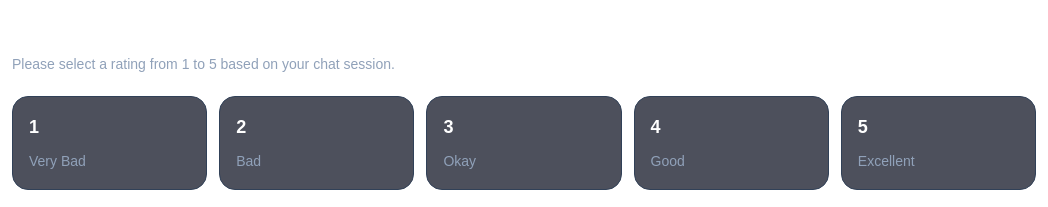
RatingClient › shows thank you message after successful rating submission
What coordinates should you click on to do the following:
click the button "5 Excellent"
I would click on:
 (938, 143)
Its box is [841,96,1036,190].
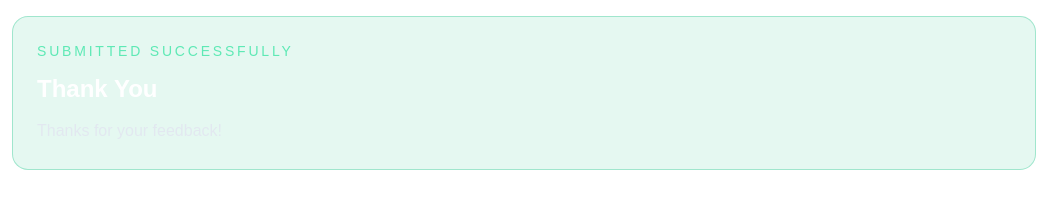
Expected: the heading "Thank You" is shown, [37,75,158,102]
